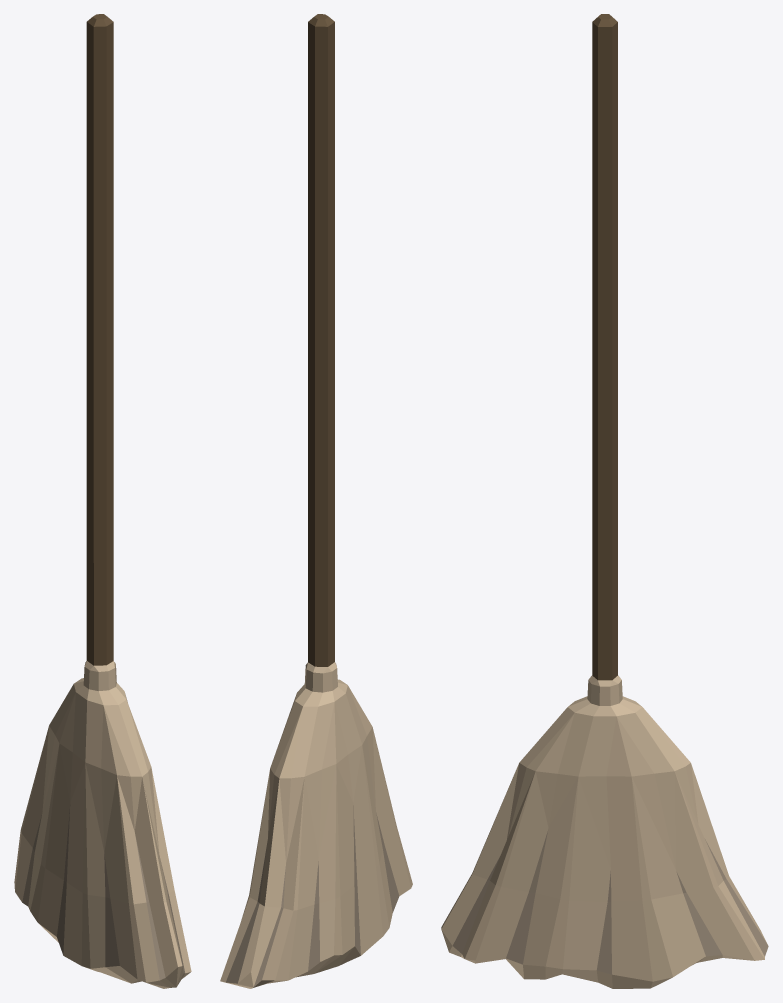
Rendered from SM_Item_Broom_03.fbx.
3 views of the same model, side by side, from view 1: azimuth 30°, elevation 25°; view 2: azimuth 150°, elevation 25°; view 3: azimuth 270°, elevation 25° (orthographic). The views are drawn at different scales.
Parts seen in each view (by area): view 1: SM_Item_Broom_03; view 2: SM_Item_Broom_03; view 3: SM_Item_Broom_03.
Part boxes in pixels (left/top/right/bottom): SM_Item_Broom_03: left=14, top=14, right=191, bottom=988; SM_Item_Broom_03: left=220, top=14, right=412, bottom=988; SM_Item_Broom_03: left=441, top=14, right=768, bottom=988.
Size of the model in its own units: 0.1673 by 1.8 by 0.5547.
1 material, 1 textured.
